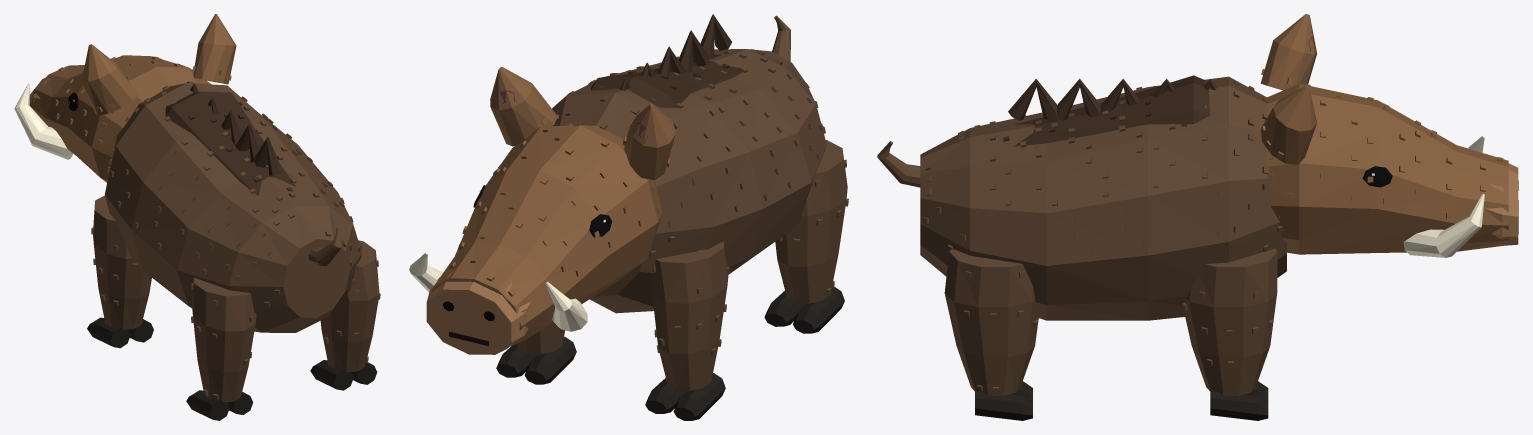
Rendered from Boar.fbx.
3 views of the same model, side by side, from view 1: azimuth 30°, elevation 25°; view 2: azimuth 150°, elevation 25°; view 3: azimuth 270°, elevation 25° (orthographic). The views are drawn at different scales.
Parts seen in each view (by area): view 1: Import3D_Core, Import3D_Head, Import3D_LegBL, Import3D_LegFL, Import3D_LegBR, Import3D_EarL, Import3D_EarR, Import3D_TuskBase-1, Import3D_LegBLFoot, Import3D_LegFLFoot, Import3D_LegBRFoot, Import3D_Tail; view 2: Import3D_Core, Import3D_Head, Import3D_LegFL, Import3D_LegBL, Import3D_EarR, Import3D_EarL, Import3D_LegFRFoot, Import3D_LegFLFoot, Import3D_LegBLFoot, Import3D_TuskBase-1, Import3D_LegFR, Import3D_TuskBase1 (+1 smaller); view 3: Import3D_Core, Import3D_Head, Import3D_LegBR, Import3D_LegFR, Import3D_EarR, Import3D_EarL, Import3D_TuskBase1, Import3D_LegFRFoot, Import3D_LegBRFoot, Import3D_Tail.
Part boxes in pixels (bbox=[...]): Import3D_Core: bbox=[104, 81, 362, 332]; Import3D_Head: bbox=[29, 55, 210, 182]; Import3D_LegBL: bbox=[191, 277, 256, 402]; Import3D_LegFL: bbox=[91, 195, 151, 329]; Import3D_LegBR: bbox=[320, 240, 380, 372]; Import3D_EarL: bbox=[82, 44, 138, 115]; Import3D_EarR: bbox=[192, 14, 236, 84]; Import3D_TuskBase-1: bbox=[14, 83, 73, 159]; Import3D_LegBLFoot: bbox=[186, 390, 253, 420]; Import3D_LegFLFoot: bbox=[87, 317, 153, 348]; Import3D_LegBRFoot: bbox=[310, 360, 377, 390]; Import3D_Tail: bbox=[308, 228, 342, 266]; Import3D_Core: bbox=[552, 14, 826, 313]; Import3D_Head: bbox=[426, 123, 662, 354]; Import3D_LegFL: bbox=[650, 241, 729, 390]; Import3D_LegBL: bbox=[775, 140, 848, 303]; Import3D_EarR: bbox=[490, 67, 557, 146]; Import3D_EarL: bbox=[623, 103, 675, 180]; Import3D_LegFRFoot: bbox=[496, 336, 576, 384]; Import3D_LegFLFoot: bbox=[645, 373, 725, 420]; Import3D_LegBLFoot: bbox=[764, 287, 844, 333]; Import3D_TuskBase-1: bbox=[545, 281, 587, 331]; Import3D_LegFR: bbox=[517, 322, 565, 354]; Import3D_TuskBase1: bbox=[409, 252, 443, 292]; Import3D_Core: bbox=[920, 75, 1286, 320]; Import3D_Head: bbox=[1266, 83, 1518, 254]; Import3D_LegBR: bbox=[944, 249, 1039, 395]; Import3D_LegFR: bbox=[1182, 248, 1277, 395]; Import3D_EarR: bbox=[1260, 86, 1316, 164]; Import3D_EarL: bbox=[1260, 14, 1317, 90]; Import3D_TuskBase1: bbox=[1403, 194, 1484, 257]; Import3D_LegFRFoot: bbox=[1210, 381, 1268, 420]; Import3D_LegBRFoot: bbox=[975, 381, 1032, 420]; Import3D_Tail: bbox=[877, 141, 920, 187].
Bounding box in the file's own units: 118 × 174 × 310.
Materials: 1 (1 with a texture image).
